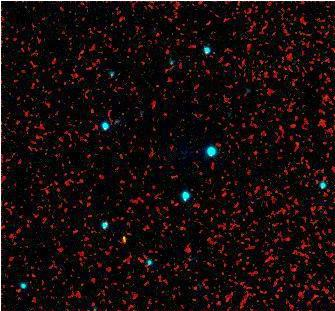star: (108, 222, 138, 252)
